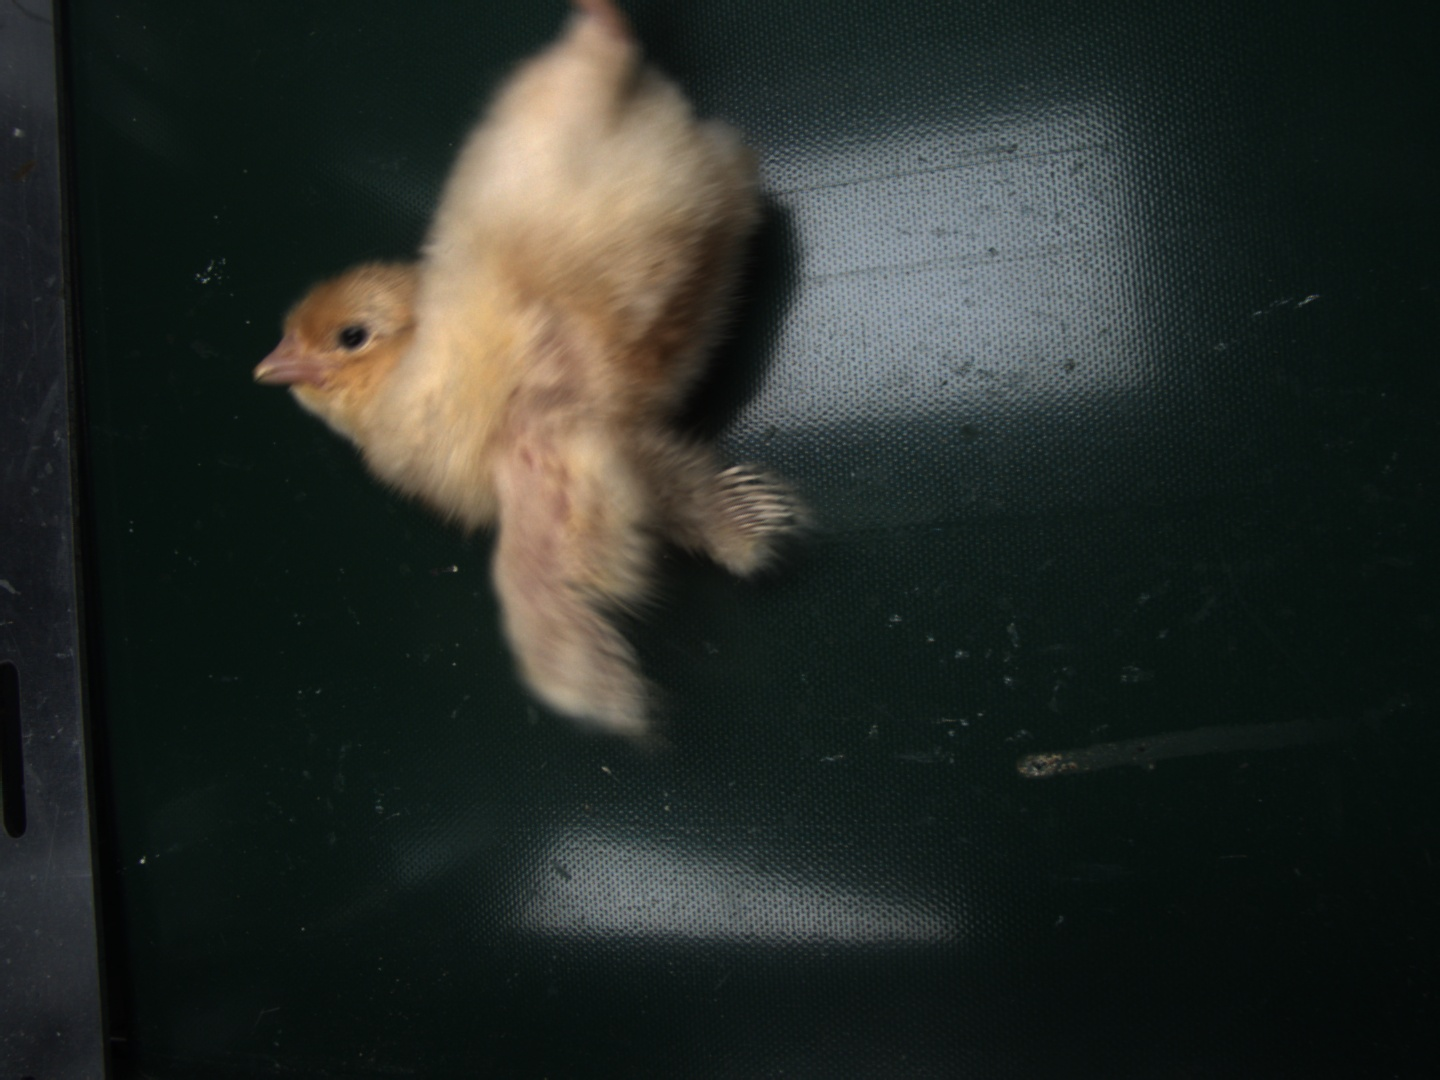female: (701, 464, 796, 545)
